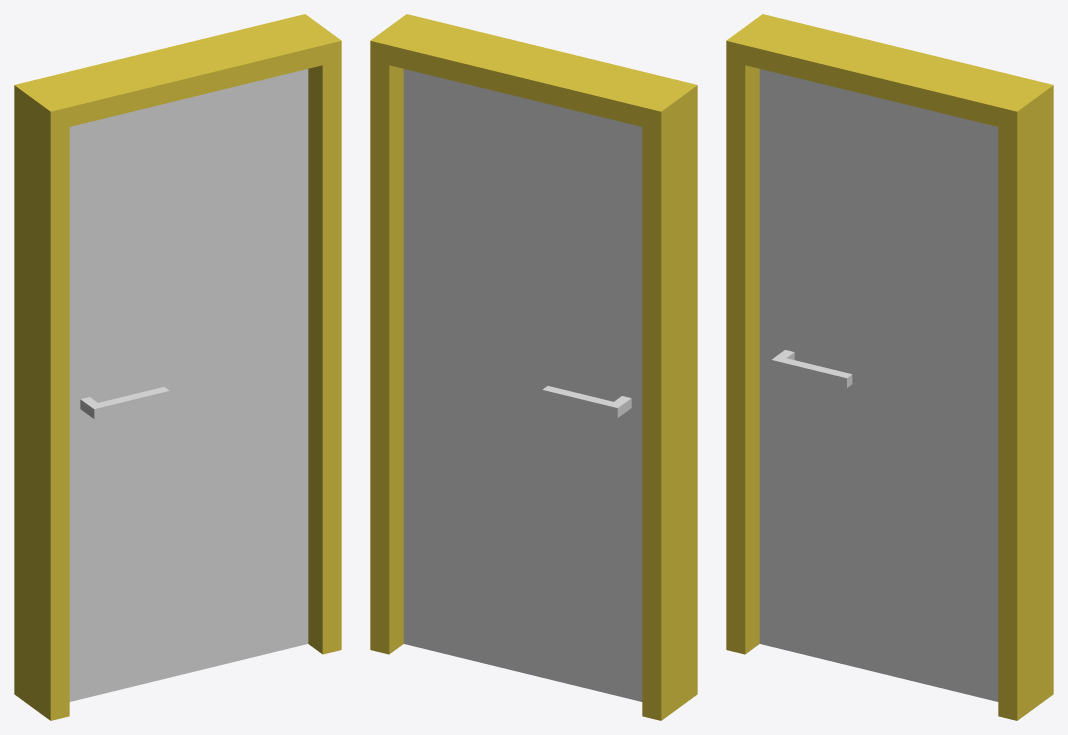
Rendered from door.BgCKDV4-.glb.
3 renders of one model, left to right at view 1: azimuth 30°, elevation 25°; view 2: azimuth 150°, elevation 25°; view 3: azimuth 330°, elevation 25°, orthographic.
Visible parts, largest first — view 1: blade, base, handle_2; view 2: blade, base, handle_1; view 3: blade, base, handle_2.
Boxes of the visible parts, box(x1,y1,x2,y2) form: blade: box(69, 69, 308, 701); base: box(14, 14, 341, 720); handle_2: box(80, 387, 169, 418); blade: box(403, 69, 642, 701); base: box(370, 14, 697, 720); handle_1: box(542, 386, 631, 417); blade: box(759, 69, 998, 701); base: box(726, 14, 1053, 720); handle_2: box(771, 350, 852, 387).
Bounding box in the file's own units: 0.9199 × 1.84 × 0.2.
